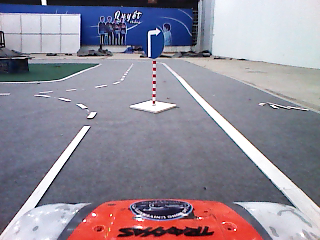turn: (141, 24, 166, 60)
